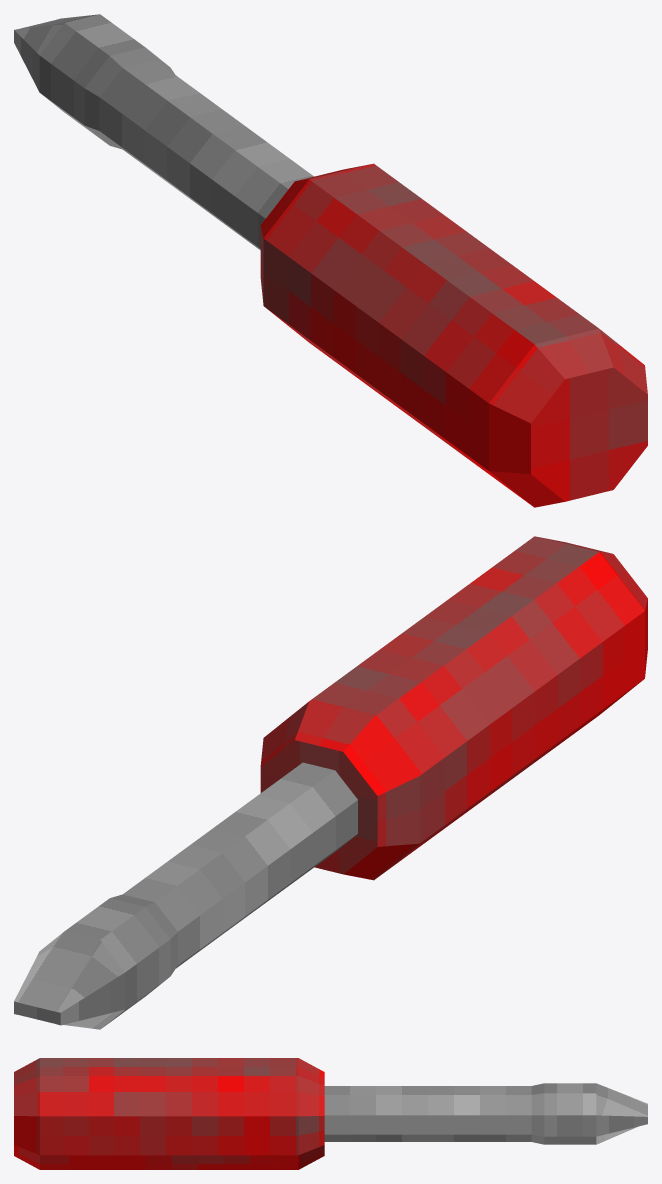
Rendered from screwdriver.gltf.
3 views of the same model, one above another, from view 1: azimuth 30°, elevation 25°; view 2: azimuth 150°, elevation 25°; view 3: azimuth 270°, elevation 25° (orthographic). The views are drawn at different scales.
Visible parts, largest first — view 1: circle; view 2: circle; view 3: circle.
Part boxes in pixels (x1,y1,x2,y2): circle: (14, 14, 647, 507); circle: (14, 536, 647, 1029); circle: (14, 1058, 647, 1169).
Size of the model in its own units: 0.125 by 0.125 by 0.7656.
1 material, 1 textured.
